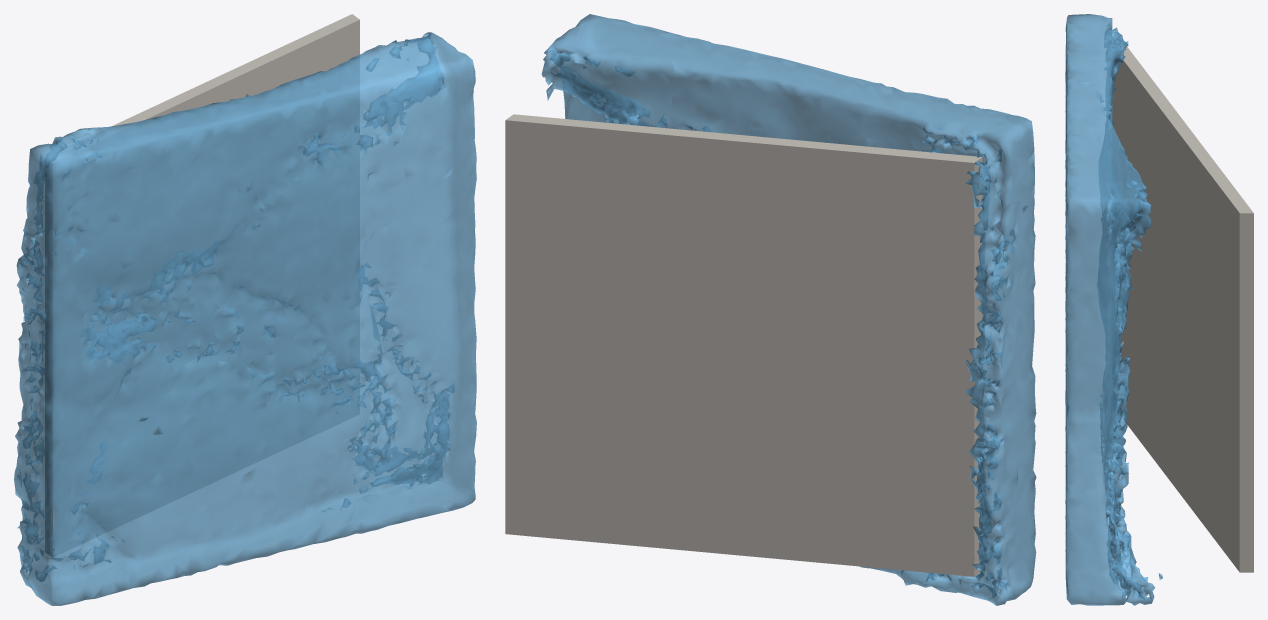
Rendered from bourrasque-collider.glb.
The picture shows the model from 3 angles, left to right: view 1: azimuth 30°, elevation 25°; view 2: azimuth 150°, elevation 25°; view 3: azimuth 270°, elevation 25°; orthographic projection. The views are drawn at different scales.
Visible parts, largest first — view 1: Fluid, Ramp; view 2: Ramp, Fluid; view 3: Ramp, Fluid.
Part boxes in pixels (left/top/right/bottom): Fluid: left=14, top=32, right=476, bottom=605; Ramp: left=45, top=14, right=359, bottom=556; Ramp: left=505, top=114, right=982, bottom=576; Fluid: left=541, top=14, right=1036, bottom=605; Ramp: left=1112, top=46, right=1253, bottom=572; Fluid: left=1065, top=14, right=1162, bottom=605.
Size of the model in its own units: 0.9534 by 0.9512 by 0.4.
